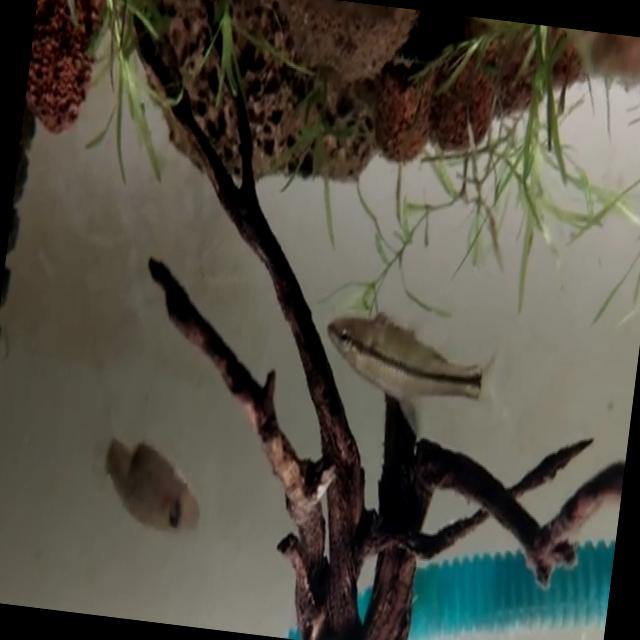Cakil Baligi: (313, 302, 503, 452), (81, 429, 217, 551)
